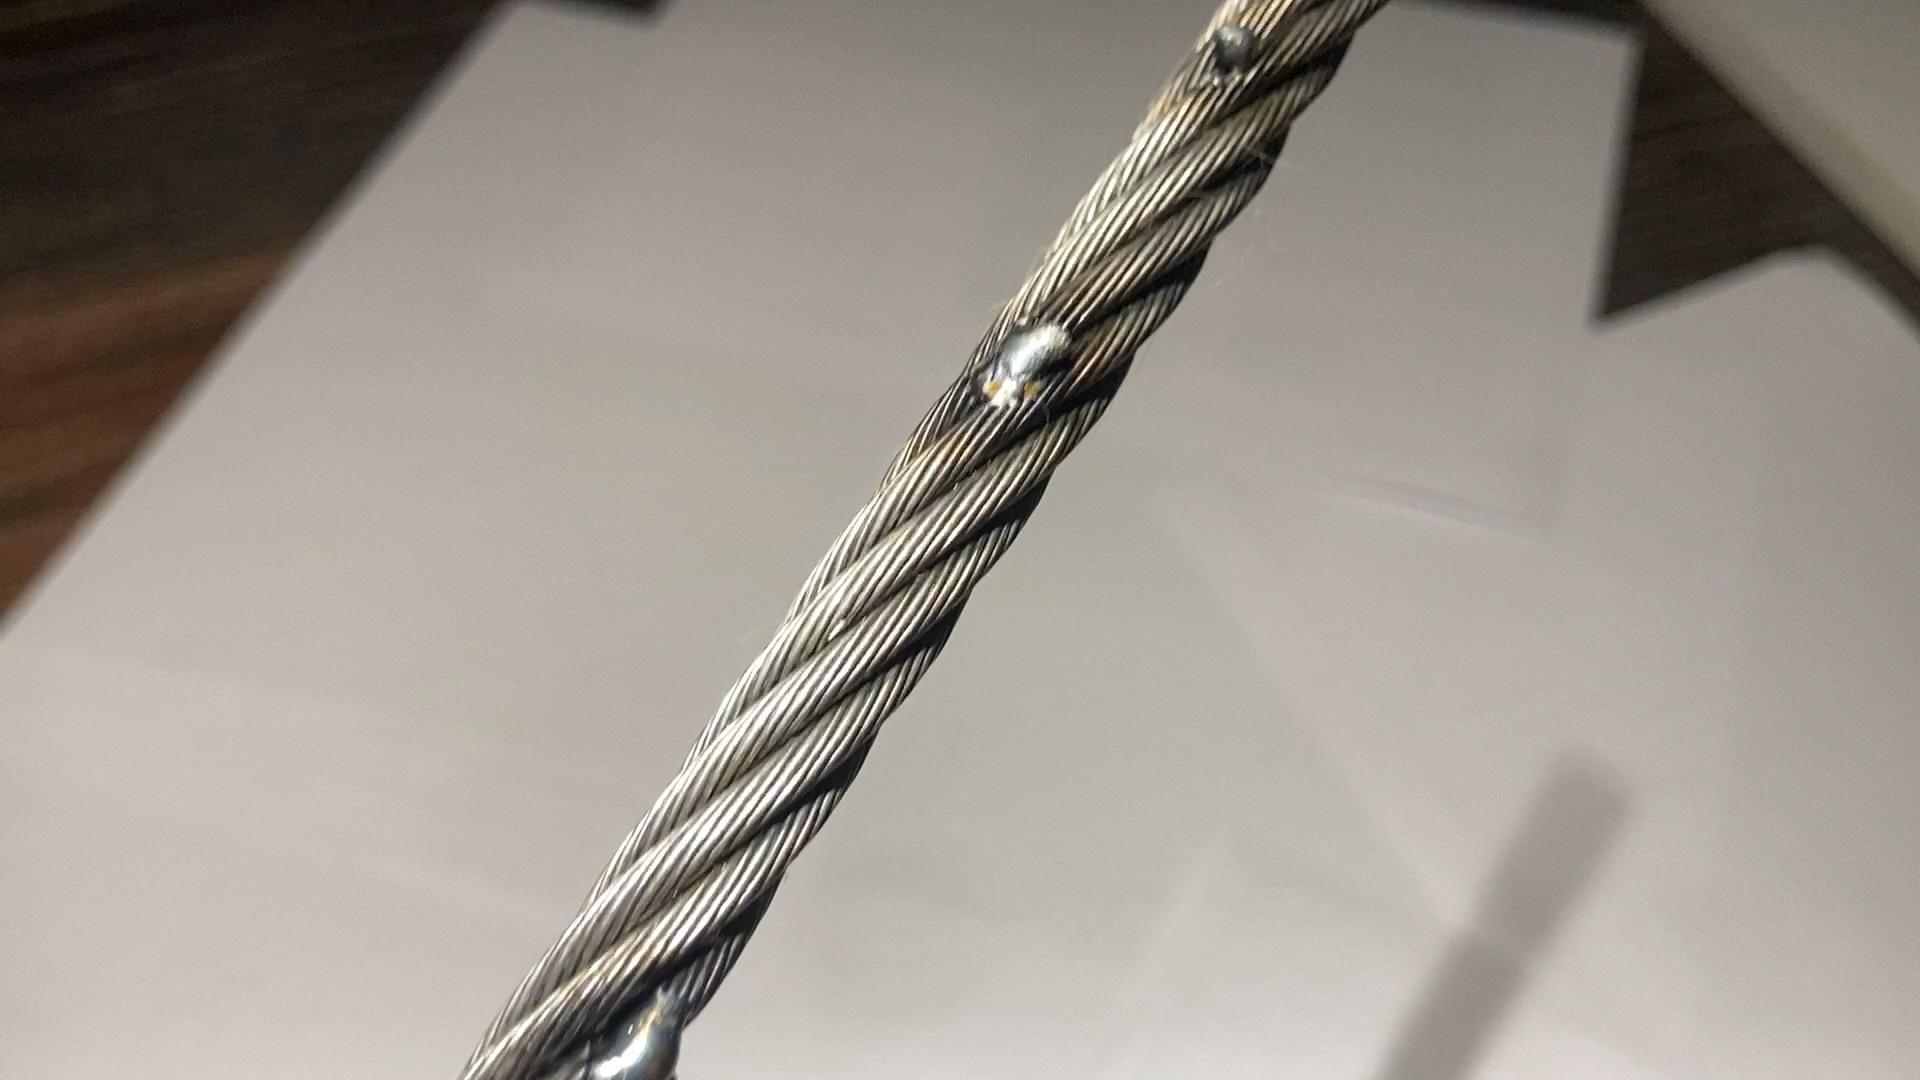thunderbolt: (998, 310, 1091, 423), (1197, 20, 1291, 96)
